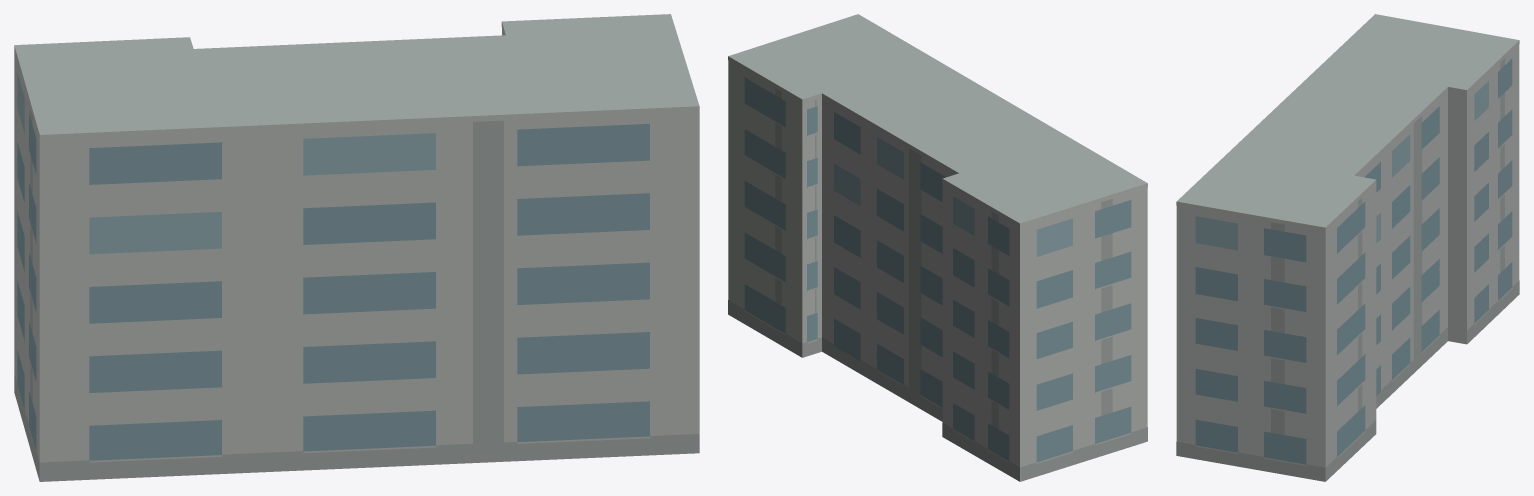
Rendered from survey-upis-32565598.glb.
The picture shows the model from 3 angles, left to right: view 1: azimuth 30°, elevation 25°; view 2: azimuth 150°, elevation 25°; view 3: azimuth 270°, elevation 25°; orthographic projection. The views are drawn at different scales.
Parts seen in each view (by area): view 1: survey-upis-32565598.tmp; view 2: survey-upis-32565598.tmp; view 3: survey-upis-32565598.tmp.
Boxes of the visible parts, x1,y1,x2,y2 form: survey-upis-32565598.tmp: (14,14,699,481); survey-upis-32565598.tmp: (728,14,1147,481); survey-upis-32565598.tmp: (1176,14,1519,481).
Size of the model in its own units: 26.58 by 14.75 by 18.04.
